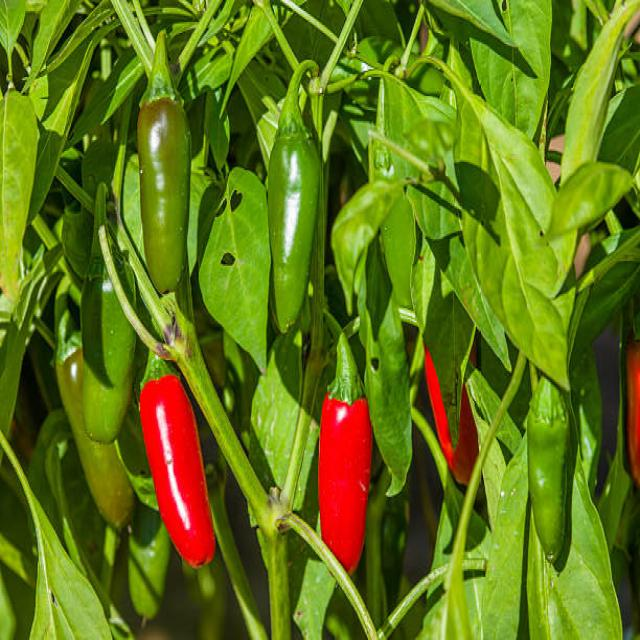Ripe: (140, 374, 214, 566), (319, 392, 371, 572)
Unripe: (268, 134, 319, 330), (138, 101, 190, 289), (82, 269, 135, 440), (527, 385, 573, 577)
